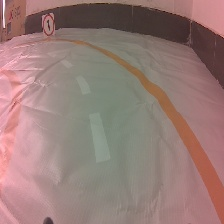limit: (38, 12, 61, 42)
